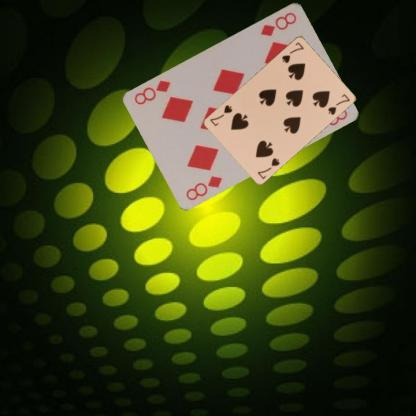7s: (279, 39, 305, 64), (255, 155, 281, 180)
8d: (183, 171, 224, 201), (258, 8, 298, 38)
